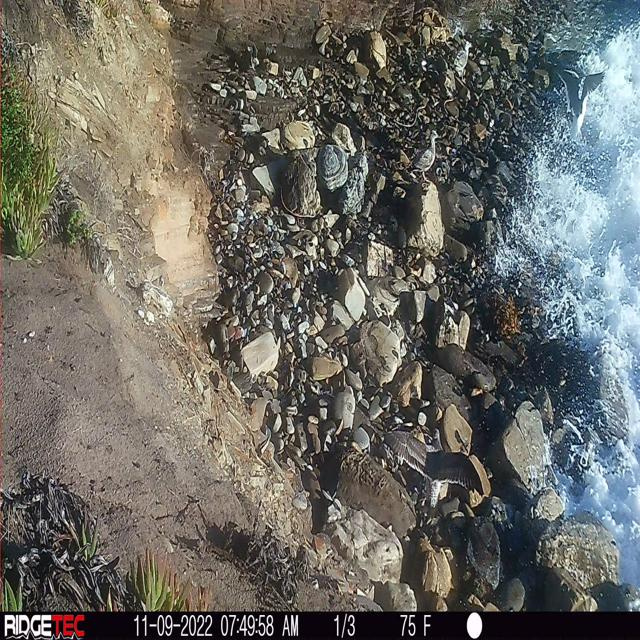bird: (374, 398, 488, 518)
